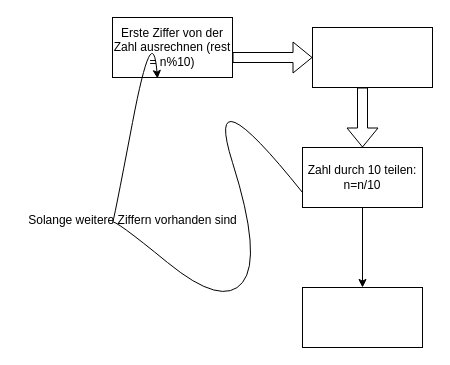
This 450x365 diagram has some shape labels left out. The centre of each missing label's shape, as x and y in pixels:
"Programm fertig und Standardausgabe des Ergebnis" belongs at (362,317).
"Zwischenspeichern: Zwischensumme = Zwischensummen + rest" belongs at (372,57).
